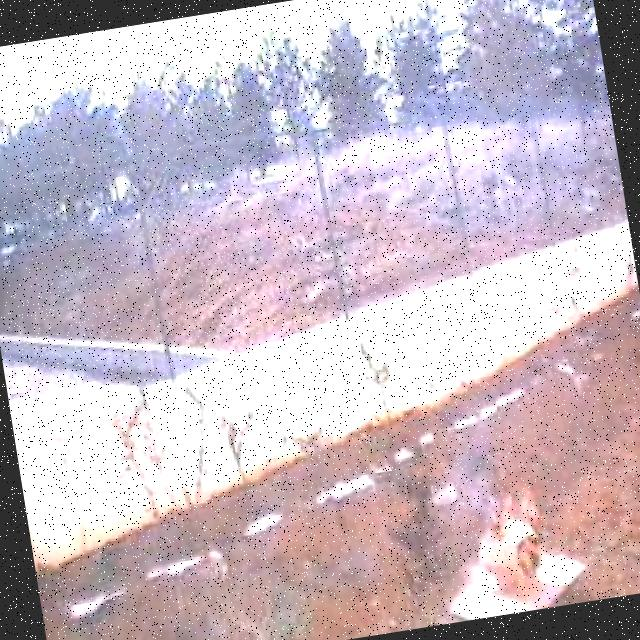Fire: (454, 445, 558, 610)
